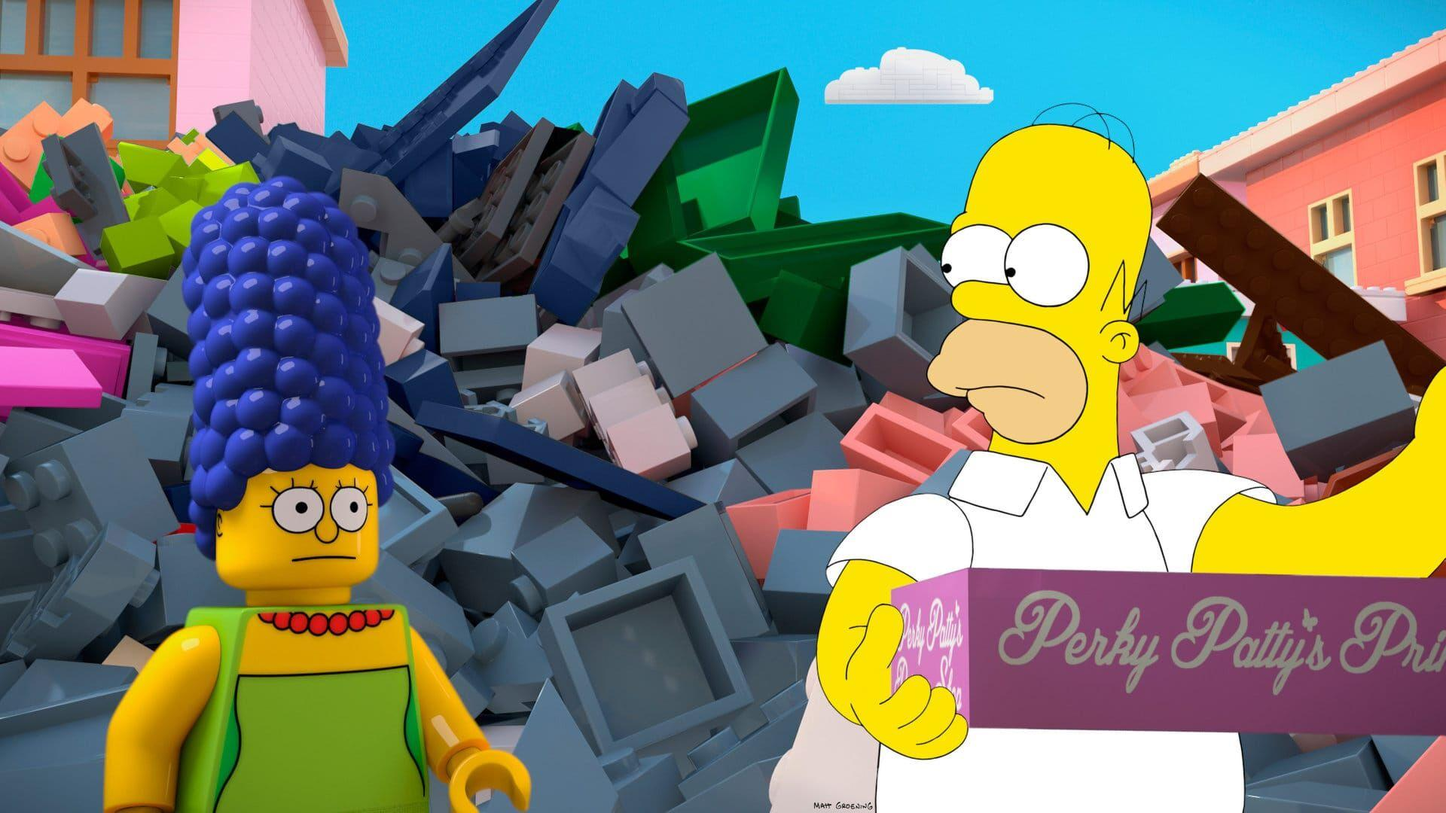Homer: (837, 89, 1371, 813)
Marge: (116, 166, 551, 813)
